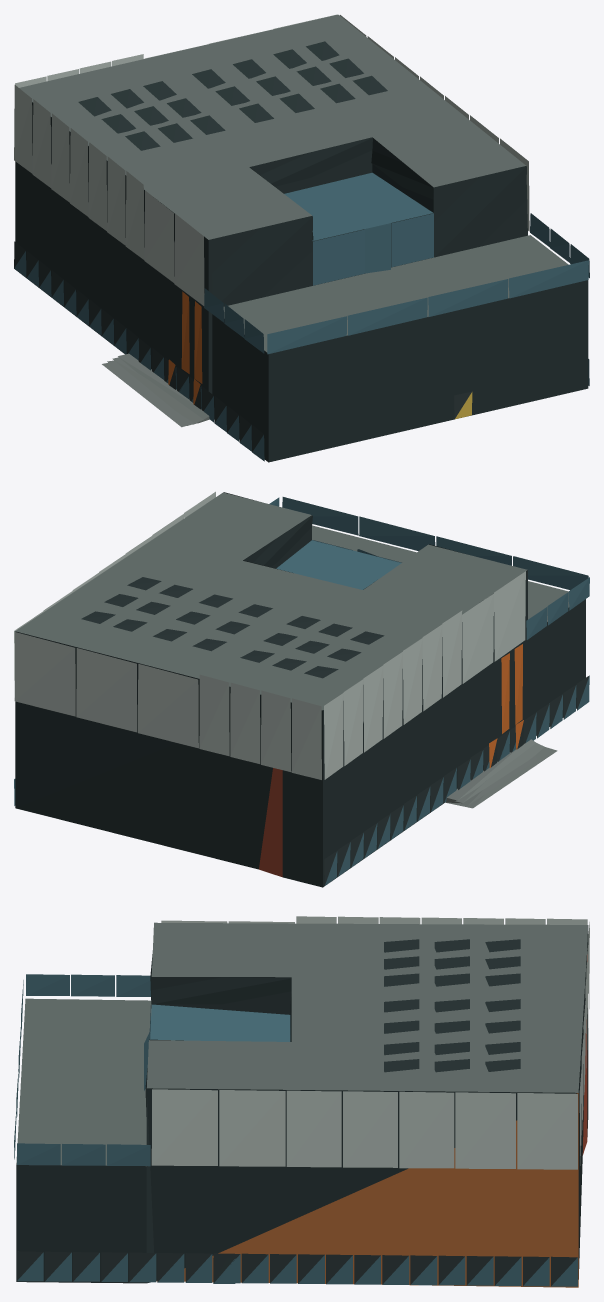
Rendered from haparandaweg-2-4.lod2.glb.
3 views of the same model, one above another, from view 1: azimuth 30°, elevation 25°; view 2: azimuth 150°, elevation 25°; view 3: azimuth 270°, elevation 25° (orthographic). The views are drawn at different scales.
Visible parts, largest first — view 1: lod2; view 2: lod2; view 3: lod2.
Part boxes in pixels (x1,y1,x2,y2): lod2: (14, 14, 589, 462); lod2: (14, 491, 589, 887); lod2: (14, 916, 589, 1287).
Bounding box in the file's own units: 43.92 × 21.82 × 56.92.
